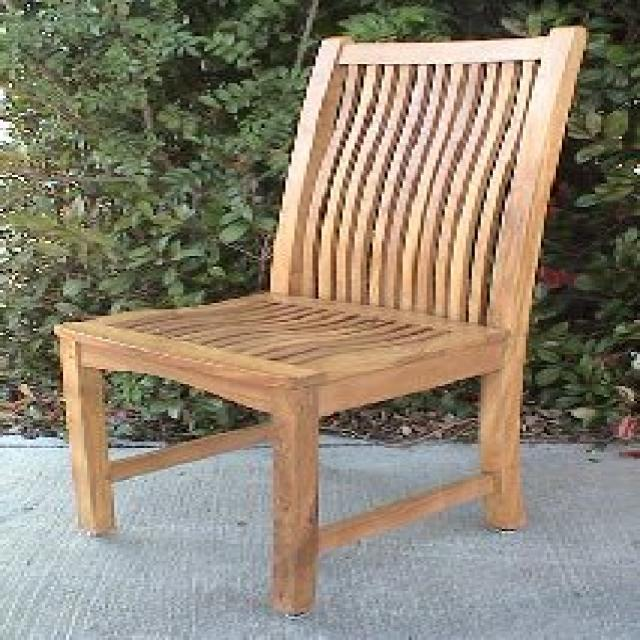Chair: (43, 22, 598, 625)
